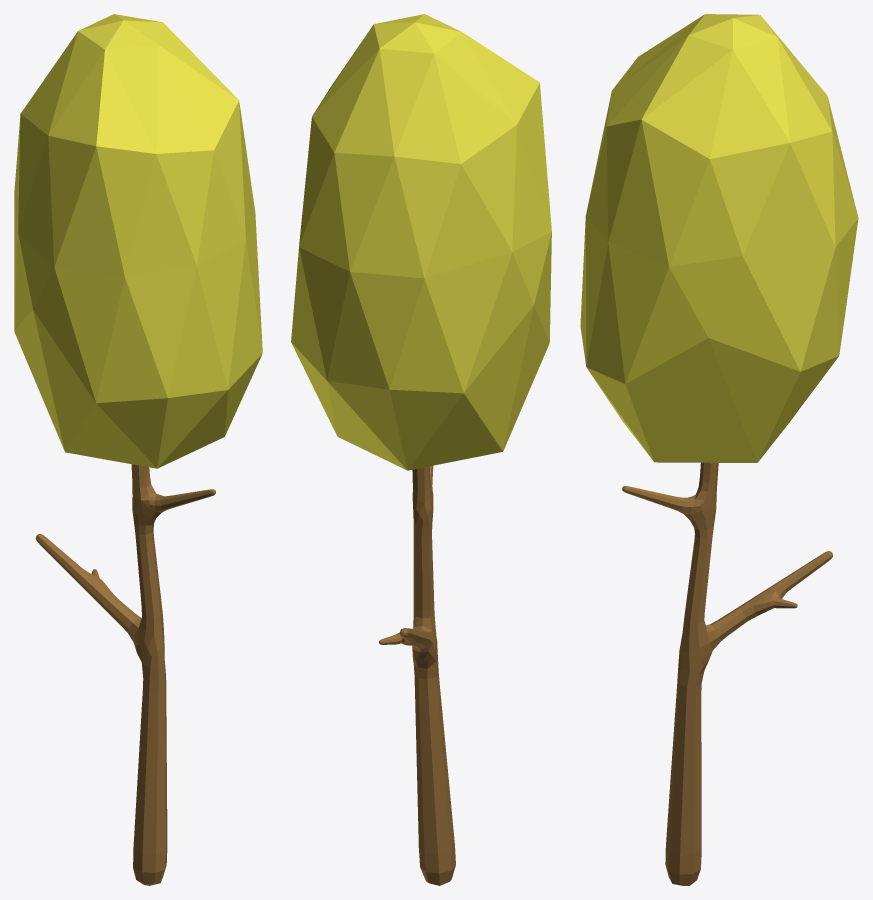
The model's file is leaftree.fbx.
The picture shows the model from 3 angles, left to right: view 1: azimuth 30°, elevation 25°; view 2: azimuth 150°, elevation 25°; view 3: azimuth 270°, elevation 25°; orthographic projection. The views are drawn at different scales.
Parts seen in each view (by area): view 1: Tree; view 2: Tree; view 3: Tree.
Part boxes in pixels (x1=…): Tree: x1=14, y1=14, x2=262, y2=885; Tree: x1=291, y1=14, x2=551, y2=885; Tree: x1=580, y1=14, x2=858, y2=885.
Size of the model in its own units: 351 by 1401 by 407.
